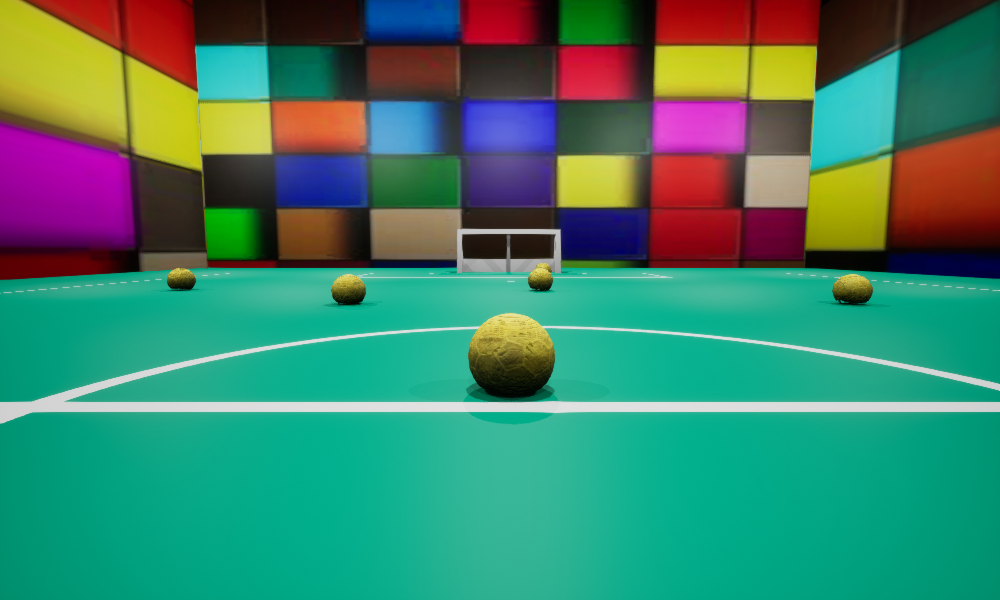b: (468, 313, 554, 396), (832, 274, 872, 304), (331, 274, 365, 304), (167, 268, 195, 289), (528, 268, 552, 290), (534, 263, 551, 272)
g: (457, 229, 560, 272)
